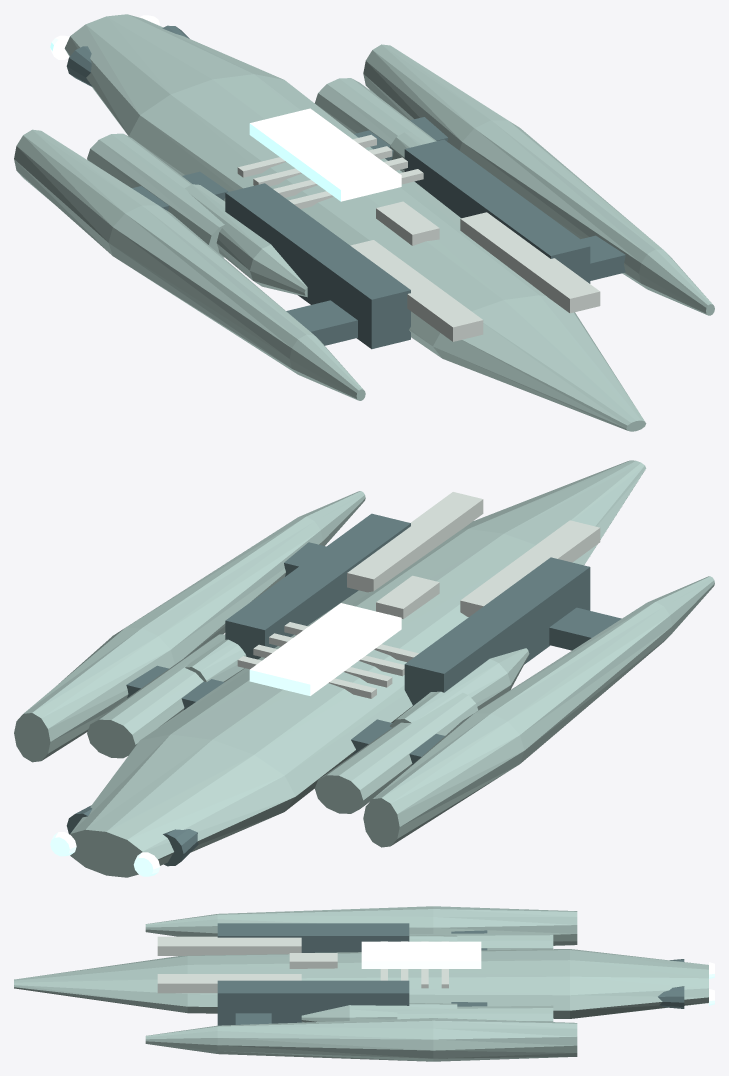
3 renders of one model, top to bottom at view 1: azimuth 30°, elevation 25°; view 2: azimuth 150°, elevation 25°; view 3: azimuth 270°, elevation 25°, orthographic. The views are drawn at different scales.
Size of the model in its own units: 5.21 by 1.03 by 11.58.
